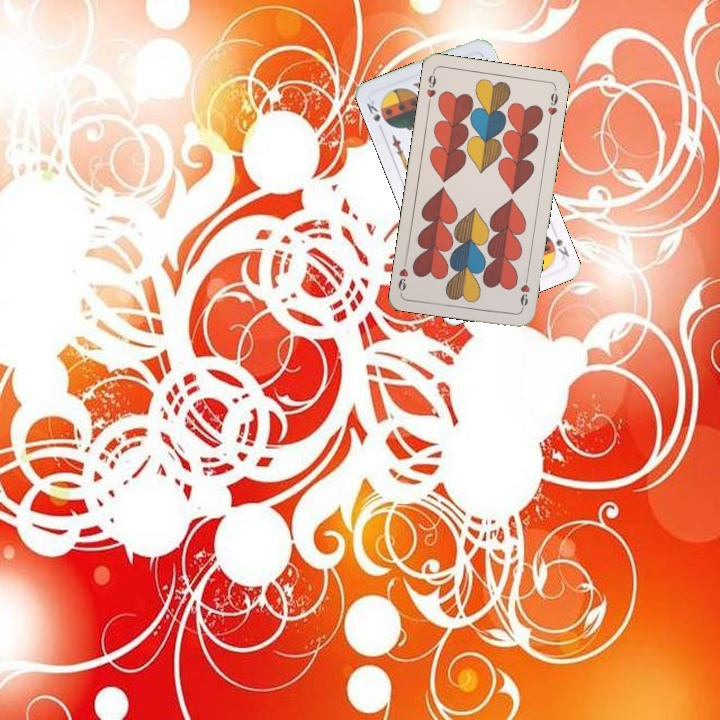H9: (516, 272, 533, 312), (423, 67, 439, 108)
SK: (543, 225, 572, 262), (362, 96, 386, 135)
